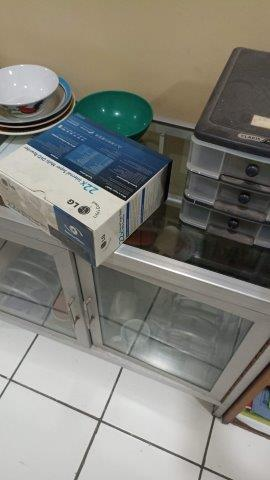kardus: (1, 113, 172, 266)
